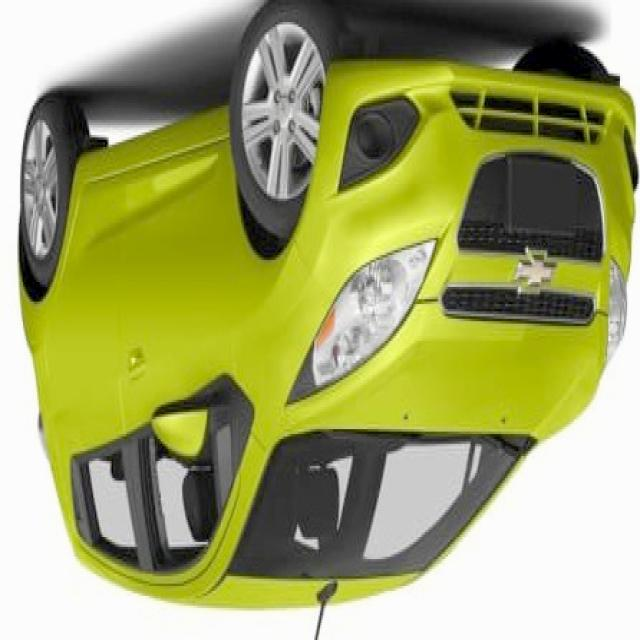green: (19, 47, 635, 602)
